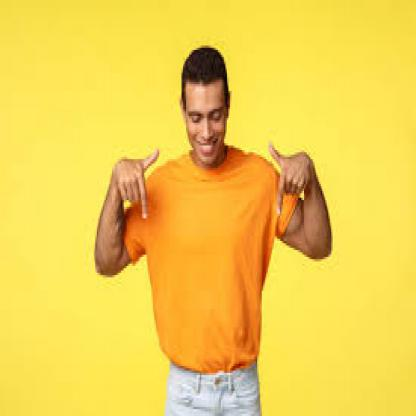Down: (108, 146, 163, 224), (264, 135, 310, 219)
